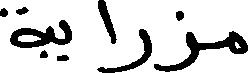X: (0, 2, 49, 62), (155, 6, 198, 72), (117, 24, 150, 72), (99, 0, 115, 72), (229, 26, 247, 58), (60, 15, 70, 65)
